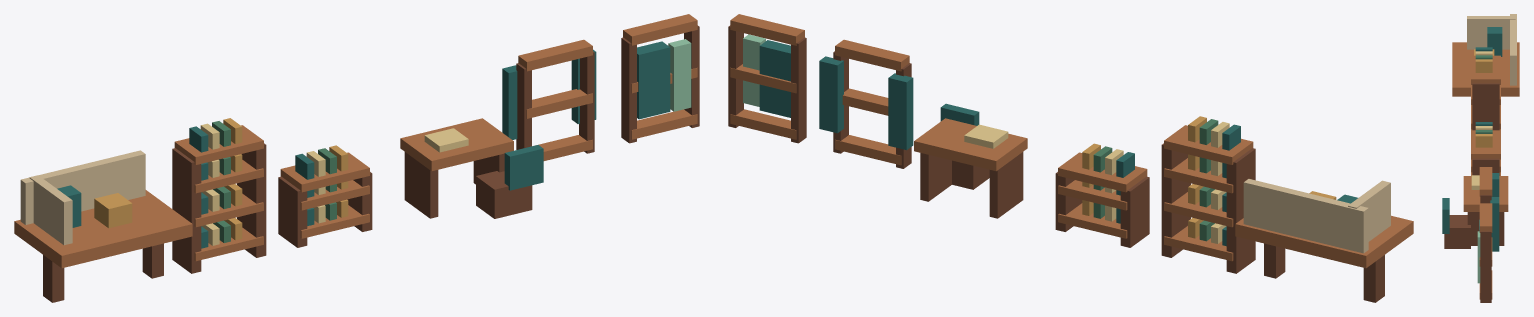
The model's file is sum-kaveh-room-model.obj.
3 renders of one model, left to right at view 1: azimuth 30°, elevation 25°; view 2: azimuth 150°, elevation 25°; view 3: azimuth 270°, elevation 25°, orthographic. The views are drawn at different scales.
Visible parts, largest first — view 1: Reading Room; view 2: Reading Room; view 3: Reading Room.
Part boxes in pixels (x1,y1,x2,y2): Reading Room: [14, 14, 699, 302]; Reading Room: [728, 14, 1413, 302]; Reading Room: [1442, 14, 1519, 302].
Bounding box in the file's own units: 6.08 × 1.17 × 0.8715.
